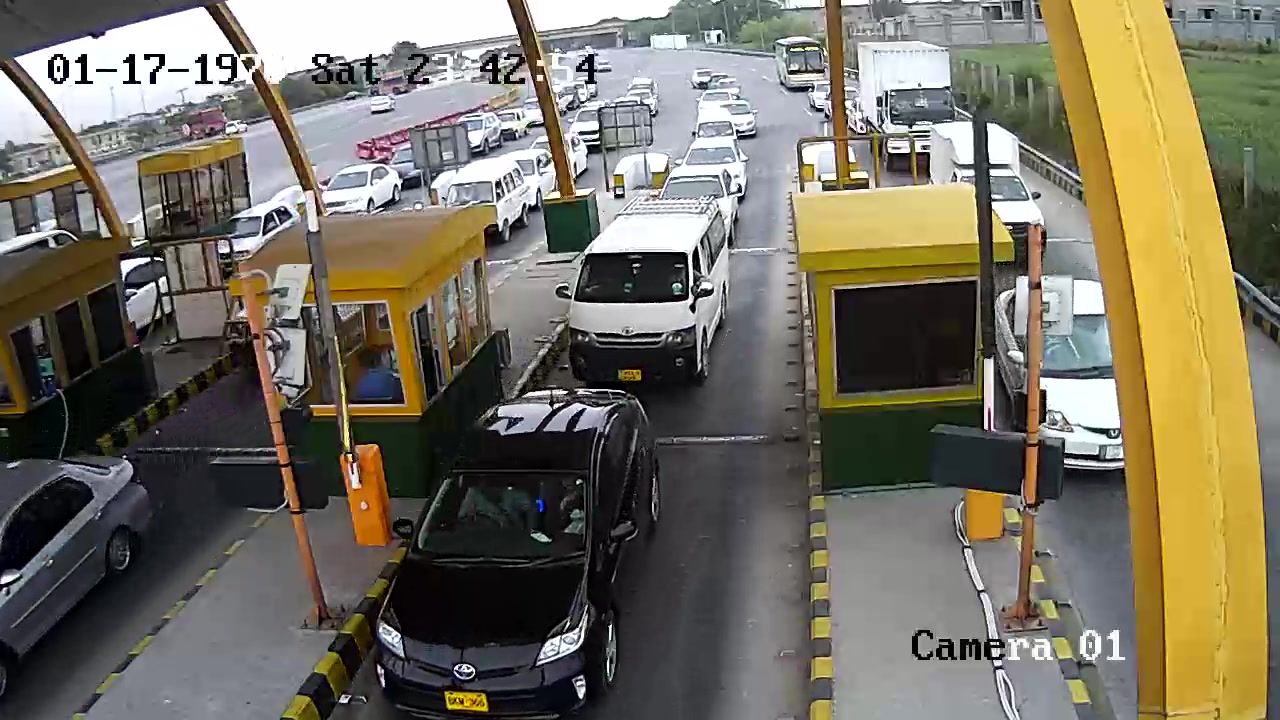F3: (561, 193, 733, 386)
